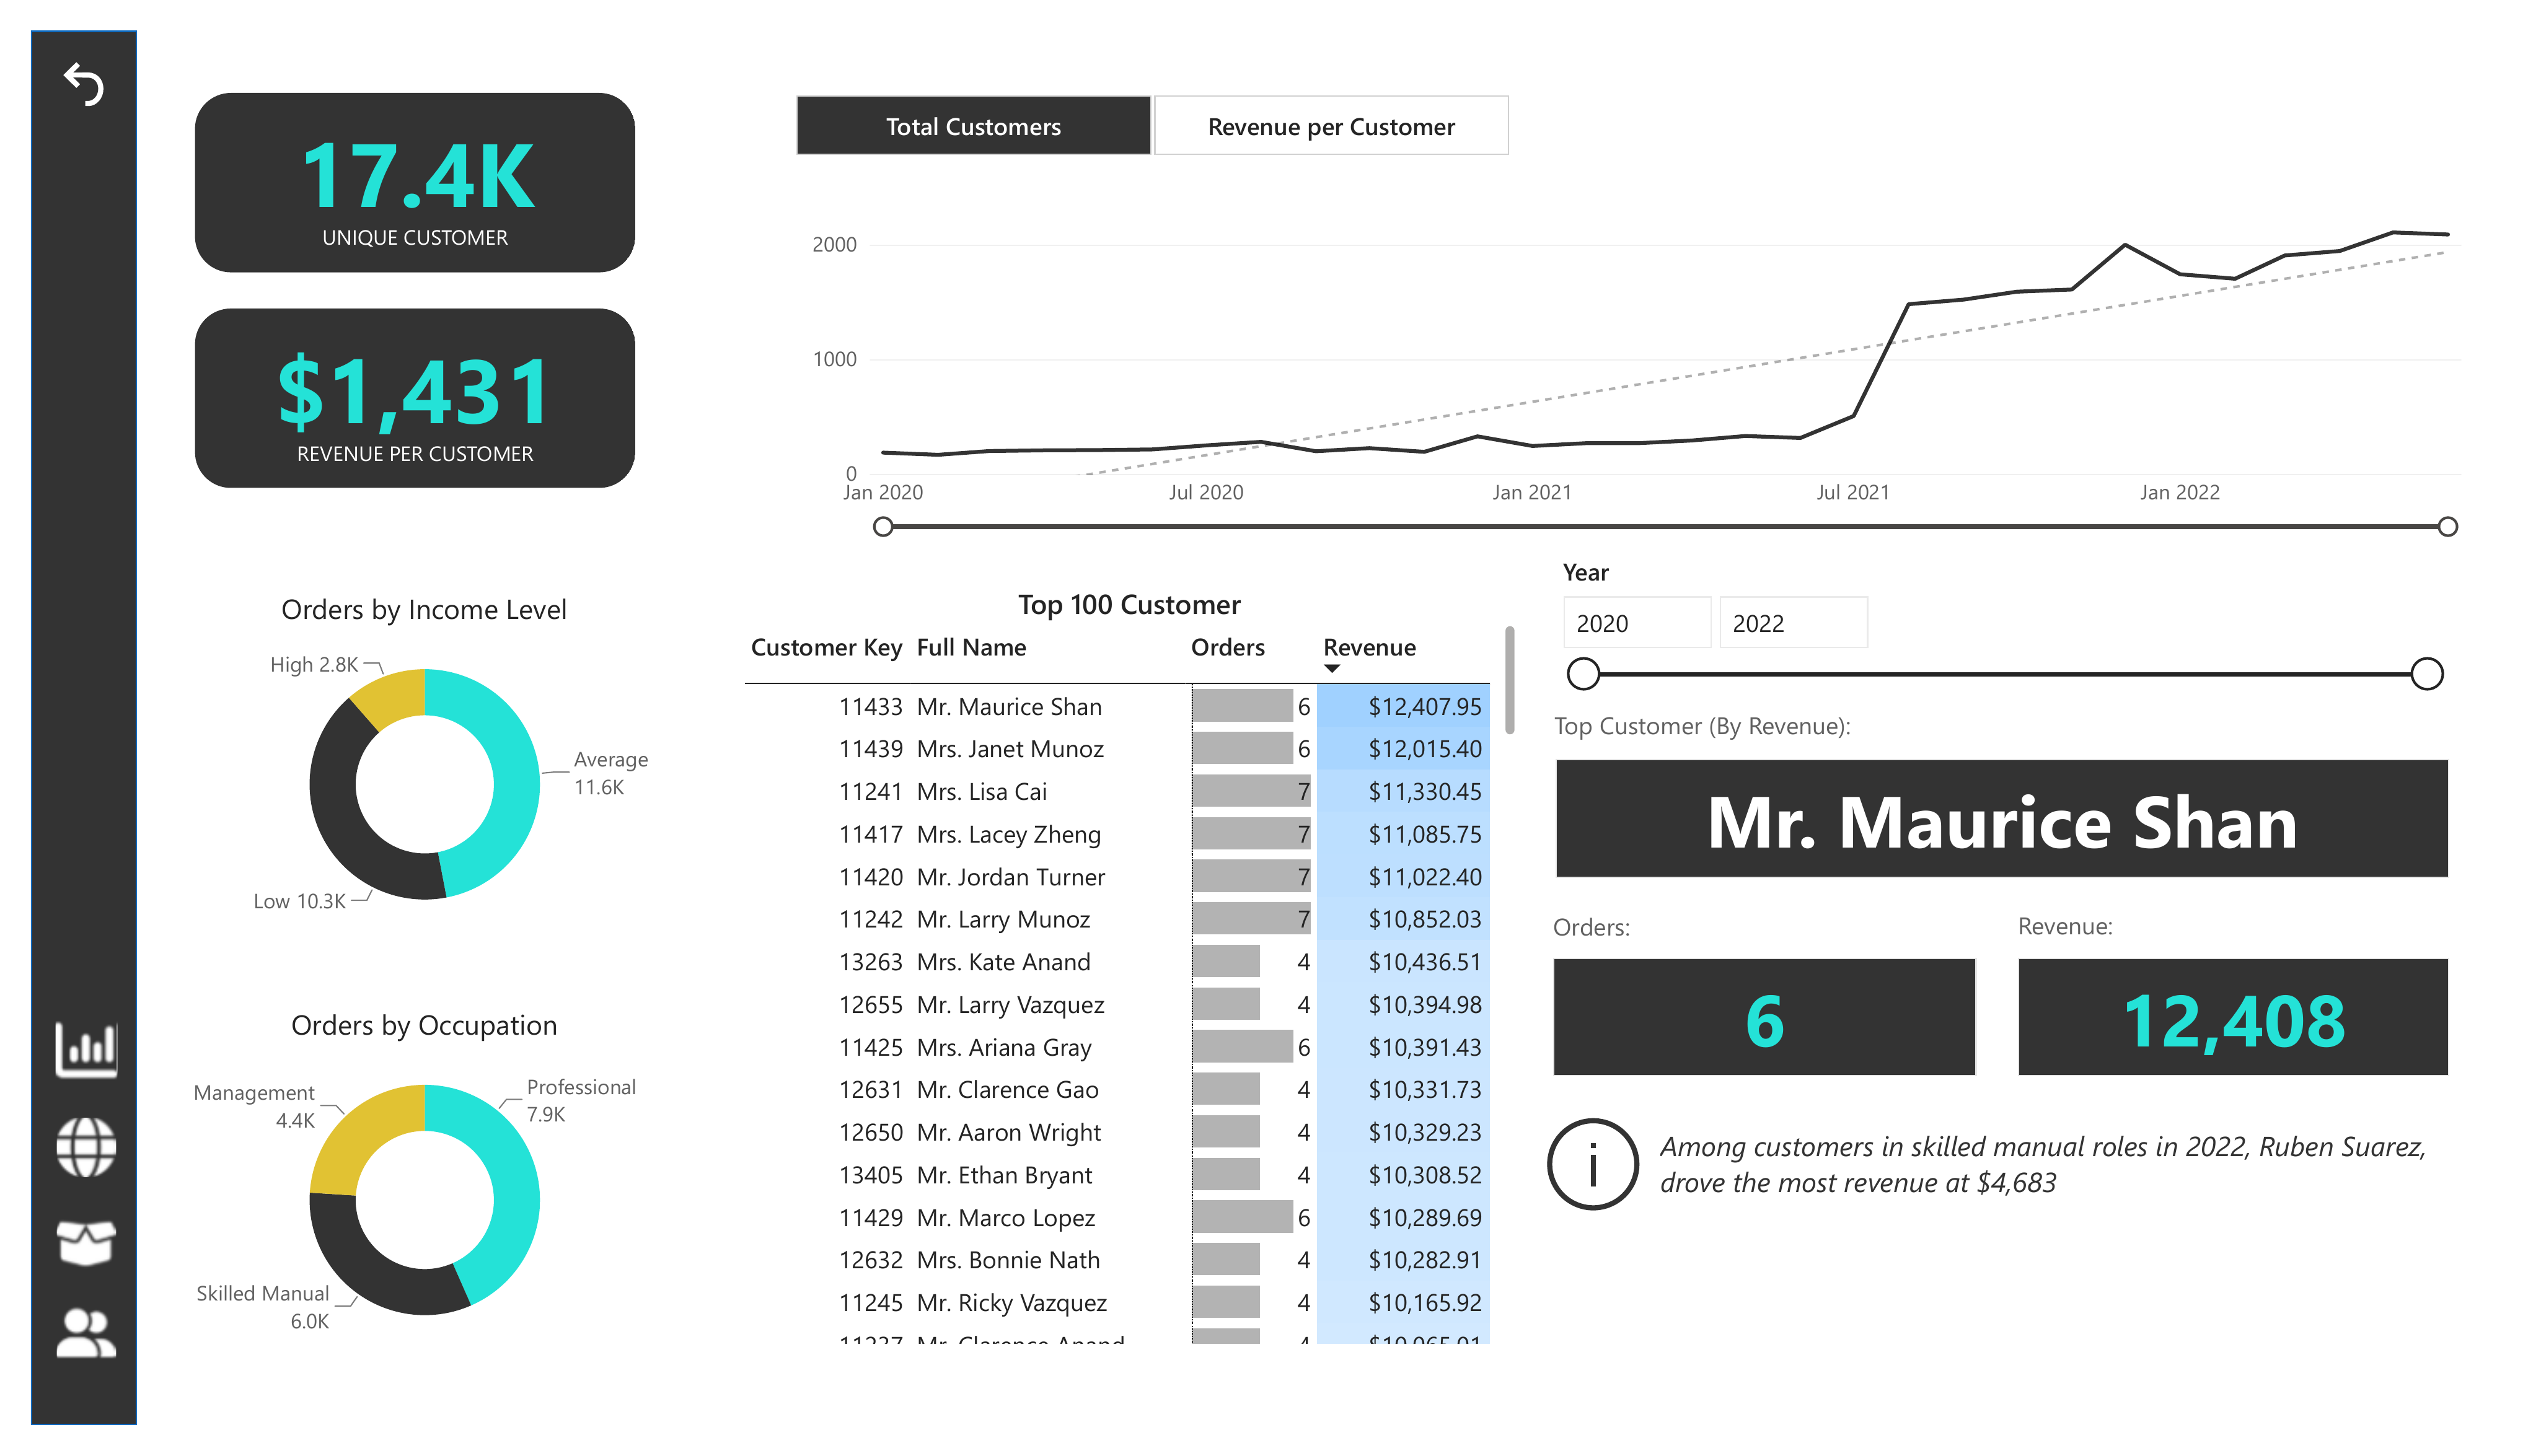

The page's visual inventory and layout, read from the dashboard file:
{"tool":"powerbi","page":{"name":"Customer Detail","canvas":[1920,1080],"ordinal":3},"visuals":[{"type":"shape","box":[0,0,81.8,1079.5],"z":0},{"type":"shape","box":[127.3,48.5,340.9,138.6],"z":0,"group":"g1"},{"type":"shape","box":[127.3,215.2,340.9,138.6],"z":0,"group":"g2"},{"type":"actionButton","box":[2,752.2,81.1,75],"z":0,"group":"g3"},{"type":"group","id":"g1","title":"KPI Background","box":[127.3,48.5,340.9,138.6],"z":1000},{"type":"actionButton","box":[2,827.2,81.1,75],"z":1000,"group":"g3"},{"type":"card","fields":{"Values":["Measure Table.Total Customers"]},"box":[152.5,40,290,155],"z":2000},{"type":"actionButton","box":[2,902.2,81.1,75],"z":2000,"group":"g3"},{"type":"group","id":"g2","title":"KPI Background","box":[127.3,215.2,340.9,138.6],"z":3000},{"type":"actionButton","box":[2,971.2,81.1,75],"z":3000,"group":"g3"},{"type":"card","fields":{"Values":["Measure Table.Average Revenue per Customer"]},"box":[139.9,206.8,316.3,156.1],"z":4000},{"type":"lineChart","title":"Total Customer","fields":{"Category":["Calendar Lookup.Date Hierarchy.Start of Year","Calendar Lookup.Date Hierarchy.Start of Month","Calendar Lookup.Date Hierarchy.Start of Week","Calendar Lookup.Date Hierarchy.Date"],"Y":["Measure Table.Total Customers"]},"box":[589.4,97.9,1329.8,308.5],"z":5000},{"type":"donutChart","title":"Orders by Income Level","fields":{"Category":["Customer Lookup.Income Level"],"Y":["Measure Table.Total Orders"]},"box":[104,418.7,402,300],"z":6000},{"type":"donutChart","title":"Orders by Occupation","fields":{"Category":["Customer Lookup.Occupation"],"Y":["Measure Table.Total Orders"]},"box":[104,740.7,402,300],"z":7000},{"type":"tableEx","title":"Top 100 Customer","fields":{"Values":["Customer Lookup.CustomerKey","Customer Lookup.Full Name","Measure Table.Total Orders","Measure Table.Total Revenue"]},"box":[536.3,415.5,629.8,617],"z":8000},{"type":"card","fields":{"Values":["Measure Table.Full Name (Customer Table)"]},"box":[1180.6,564.2,692,92],"z":9000},{"type":"card","fields":{"Values":["Measure Table.Total Orders (Customer)"]},"box":[1178.6,718.2,328,92],"z":10000},{"type":"card","fields":{"Values":["Measure Table.Total Revenue (Customer)"]},"box":[1538.6,718.2,334,92],"z":11000},{"type":"textbox","box":[1180.3,525.3,372.9,31.4],"z":12000},{"type":"textbox","box":[1538.6,680.2,212,30],"z":13000},{"type":"textbox","box":[1178.9,681.3,80,31.4],"z":14000},{"type":"slicer","fields":{"Values":["Calendar Lookup.Year"]},"box":[1178.7,406.4,693.6,151.1],"z":15000},{"type":"actionButton","box":[0,8.1,81.1,64.9],"z":16000},{"type":"actionButton","box":[1165.9,823.2,721.8,109.5],"z":17000},{"type":"group","id":"g3","title":"Navigation Buttons","box":[2,752.2,81.1,294],"z":18000},{"type":"slicer","fields":{"Values":["Customer Metric Selection.Customer Metric Selection"]},"box":[572,48,592,50],"z":20000}]}

Visuals, with their boxes on the page's 1920x1080 design canvas (x1, y1, x2, y2). These are canvas units, not pixel positions in the 2541x1456 screenshot, which may show the page scaled, cropped or inside an application window:
shape: pyautogui.locateOnScreen(0, 0, 82, 1080)
shape: pyautogui.locateOnScreen(127, 48, 468, 187)
shape: pyautogui.locateOnScreen(127, 215, 468, 354)
actionButton: pyautogui.locateOnScreen(2, 752, 83, 827)
"KPI Background" group: pyautogui.locateOnScreen(127, 48, 468, 187)
actionButton: pyautogui.locateOnScreen(2, 827, 83, 902)
card - Measure Table.Total Customers: pyautogui.locateOnScreen(152, 40, 442, 195)
actionButton: pyautogui.locateOnScreen(2, 902, 83, 977)
"KPI Background" group: pyautogui.locateOnScreen(127, 215, 468, 354)
actionButton: pyautogui.locateOnScreen(2, 971, 83, 1046)
card - Measure Table.Average Revenue per Customer: pyautogui.locateOnScreen(140, 207, 456, 363)
"Total Customer" lineChart: pyautogui.locateOnScreen(589, 98, 1919, 406)
"Orders by Income Level" donutChart: pyautogui.locateOnScreen(104, 419, 506, 719)
"Orders by Occupation" donutChart: pyautogui.locateOnScreen(104, 741, 506, 1041)
"Top 100 Customer" tableEx: pyautogui.locateOnScreen(536, 416, 1166, 1032)
card - Measure Table.Full Name (Customer Table): pyautogui.locateOnScreen(1181, 564, 1873, 656)
card - Measure Table.Total Orders (Customer): pyautogui.locateOnScreen(1179, 718, 1507, 810)
card - Measure Table.Total Revenue (Customer): pyautogui.locateOnScreen(1539, 718, 1873, 810)
textbox: pyautogui.locateOnScreen(1180, 525, 1553, 557)
textbox: pyautogui.locateOnScreen(1539, 680, 1751, 710)
textbox: pyautogui.locateOnScreen(1179, 681, 1259, 713)
slicer - Calendar Lookup.Year: pyautogui.locateOnScreen(1179, 406, 1872, 558)
actionButton: pyautogui.locateOnScreen(0, 8, 81, 73)
actionButton: pyautogui.locateOnScreen(1166, 823, 1888, 933)
"Navigation Buttons" group: pyautogui.locateOnScreen(2, 752, 83, 1046)
slicer - Customer Metric Selection.Customer Metric Selection: pyautogui.locateOnScreen(572, 48, 1164, 98)
